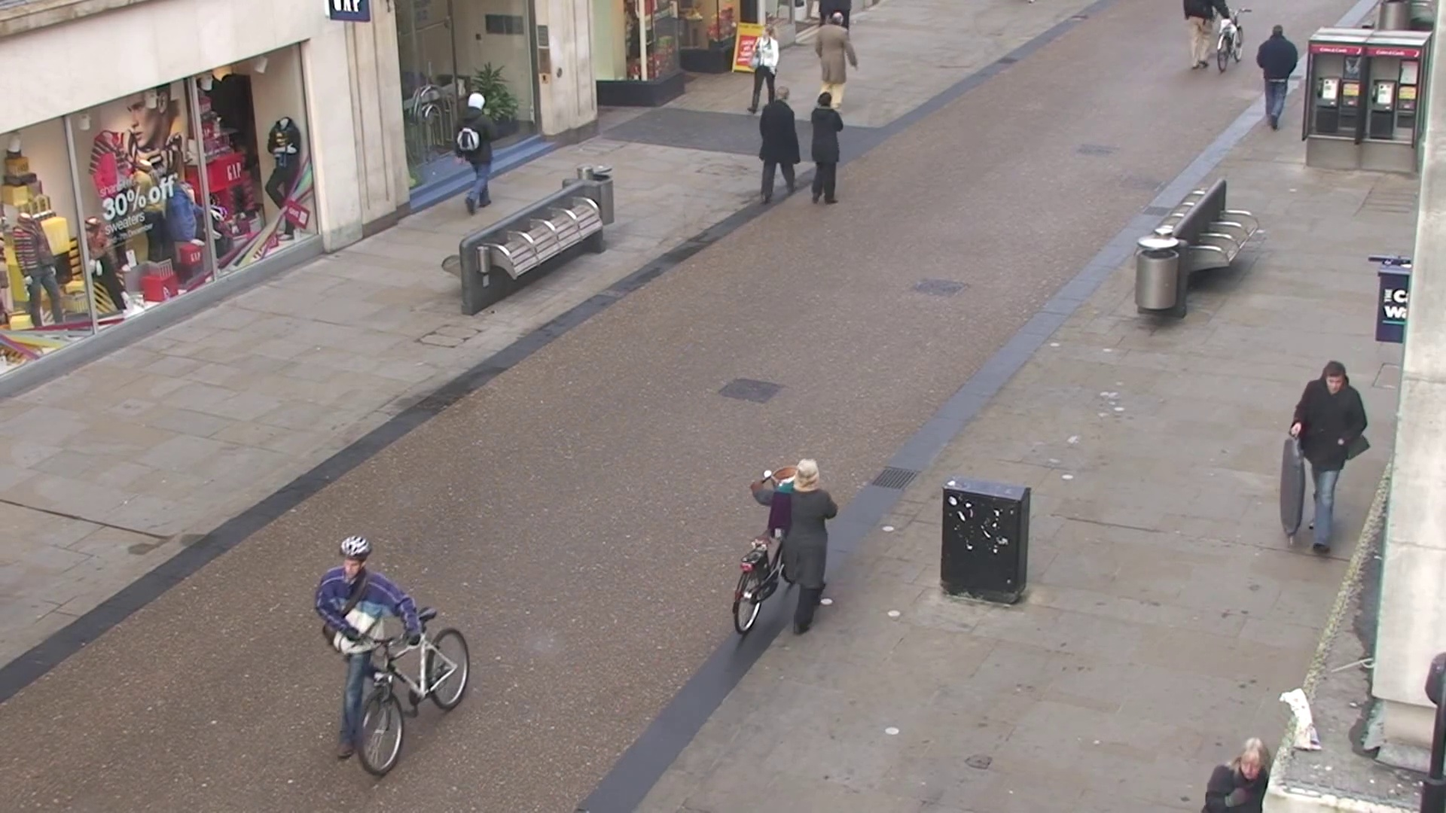person: (314, 532, 432, 738), (1287, 361, 1370, 553), (749, 457, 838, 635), (756, 88, 801, 205), (1202, 736, 1271, 811), (453, 94, 494, 215), (1256, 23, 1299, 132), (814, 8, 858, 108), (807, 88, 844, 206), (748, 25, 781, 113), (1185, 6, 1214, 72), (1214, 6, 1240, 70)
